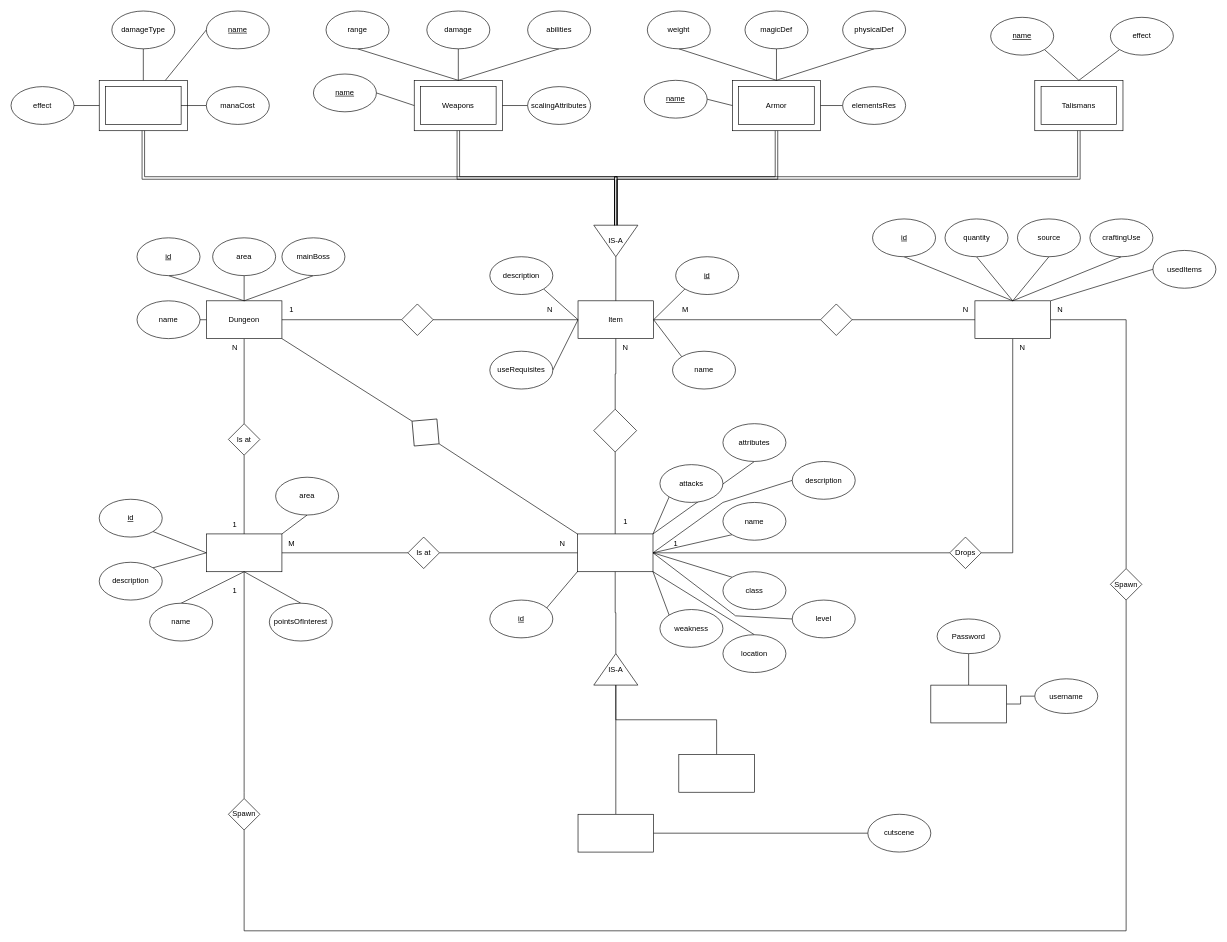
The diagram is 1227 pixels wide and 942 high, and some of its shapes have lost their labels. Here are the shapes that lost their labels. From the top down, the centre of each, then its label:
point (143, 105): Equipment & Magic
point (417, 319): Awards
point (836, 319): Craft
point (1012, 319): CraftingMaterials
point (425, 432): Contains
point (615, 430): Drops/Use
point (244, 552): Locations
point (615, 552): Character
point (968, 703): Users
point (716, 773): Enemy
point (615, 833): Bosses
